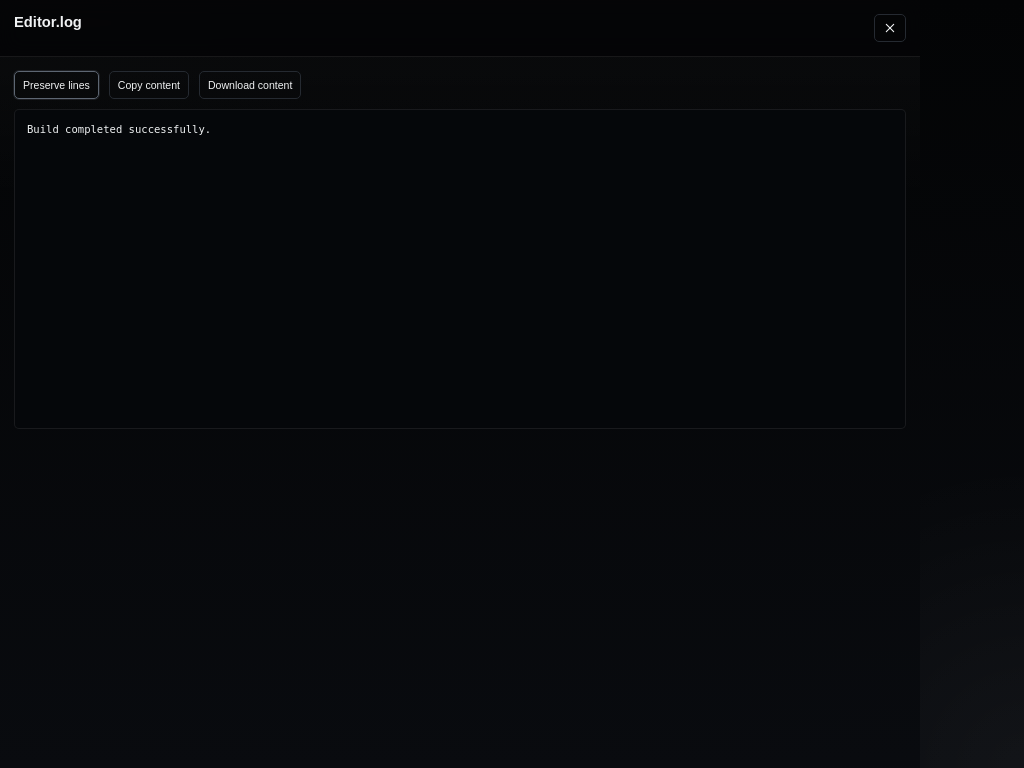
LogViewerModal › downloads the current content with the provided file name
Click the button "Download content": x=250, y=85 left=199, top=71, right=301, bottom=99
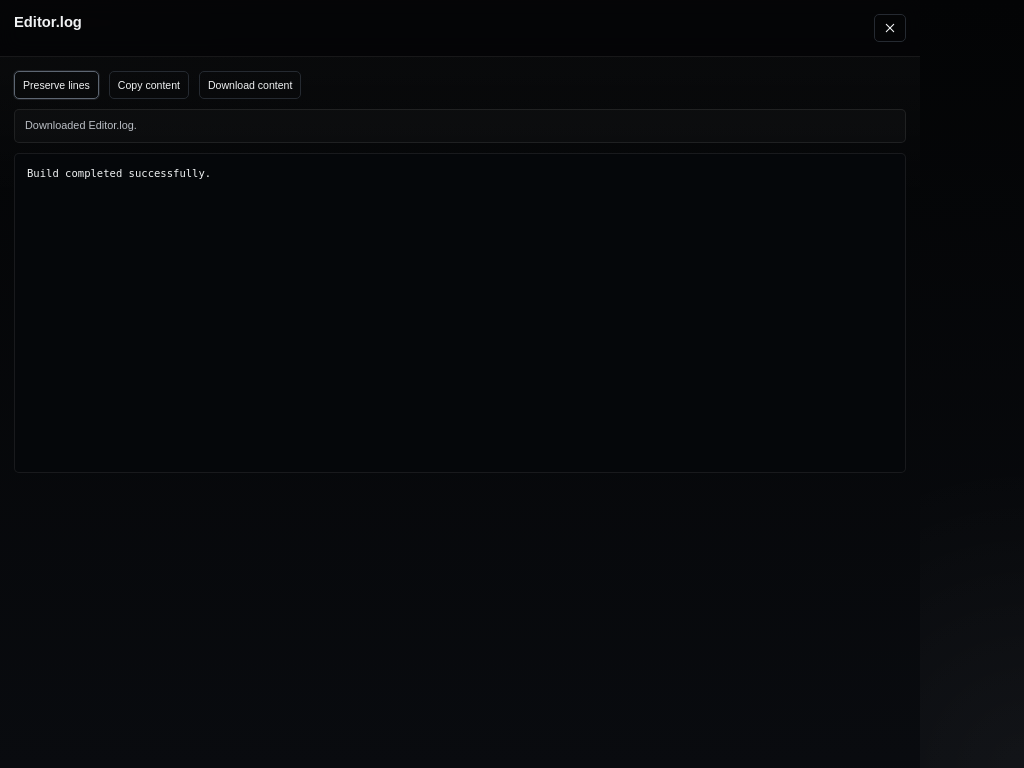
Expected: the heading "Editor.log" is shown, left=14, top=14, right=82, bottom=32
Result: the text "Downloaded Editor.log." is shown at left=25, top=118, right=137, bottom=134
